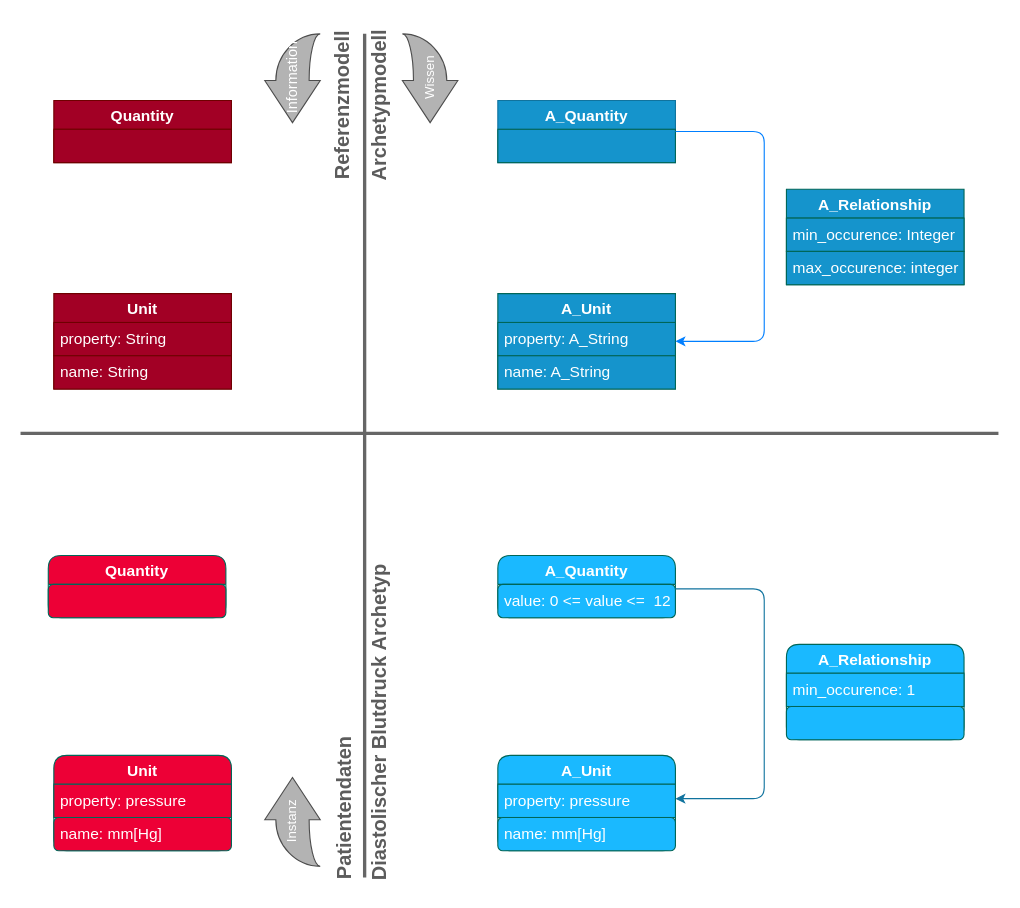
This 1020x908 diagram has some shape labels left out. Here are the shapes that lost their labels. From the top down, the centre of each, then its label:
At pixel 142 145: "value: Real".
At pixel 586 145: "value: A_Real".
At pixel 136 600: "value: 90".
At pixel 874 722: "max_occurence: 1".
